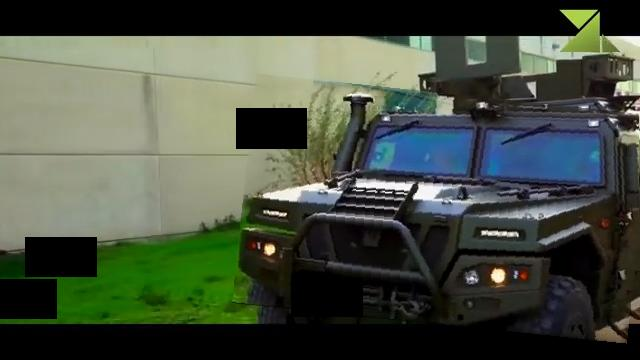MIL_HMMWV: (237, 83, 640, 334)
